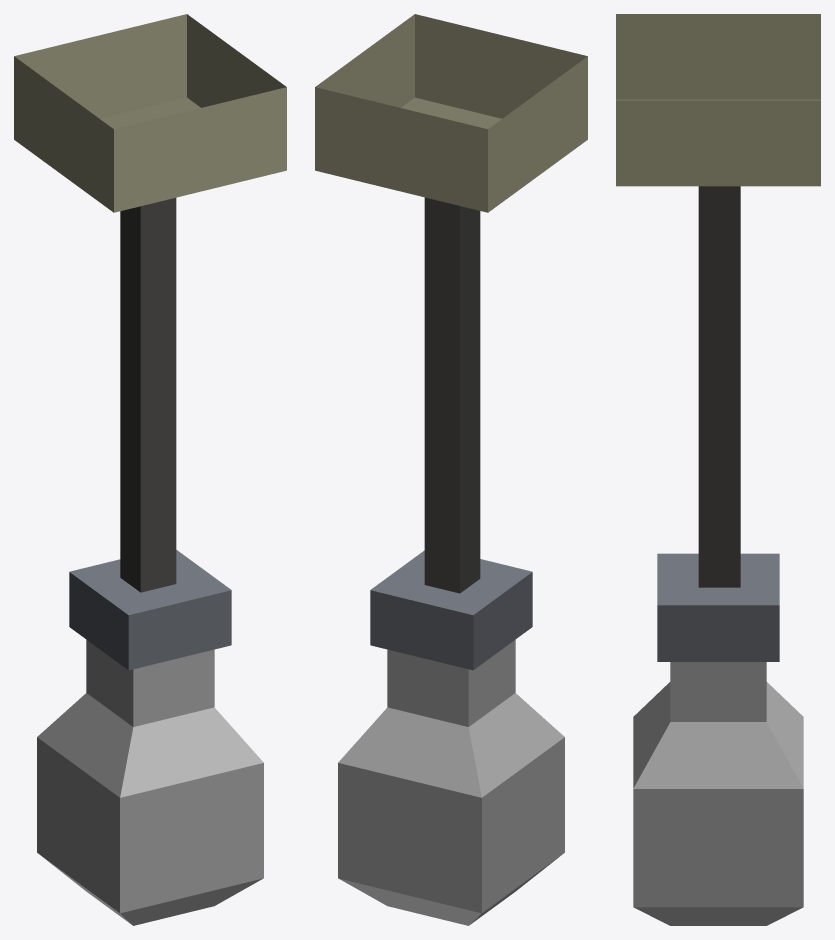
Rendered from AI_Env_Lightbulb.fbx.
3 renders of one model, left to right at view 1: azimuth 30°, elevation 25°; view 2: azimuth 150°, elevation 25°; view 3: azimuth 270°, elevation 25°, orthographic. The views are drawn at different scales.
Parts seen in each view (by area): view 1: AI_Env_Lightbulb; view 2: AI_Env_Lightbulb; view 3: AI_Env_Lightbulb.
Boxes of the visible parts, x1,y1,x2,y2 form: AI_Env_Lightbulb: (14, 14, 286, 925); AI_Env_Lightbulb: (315, 14, 587, 925); AI_Env_Lightbulb: (616, 14, 820, 925).
Bounding box in the file's own units: 0.226 × 1.03 × 0.226.
